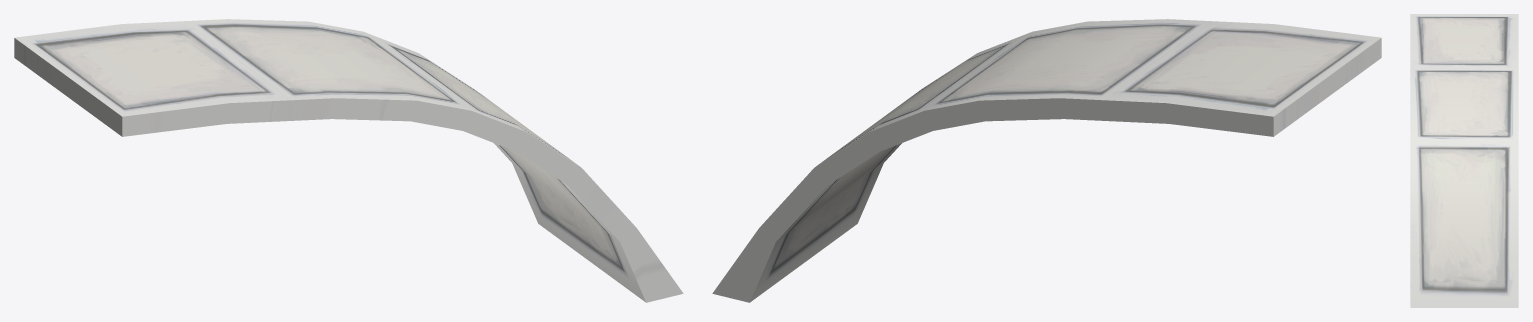
File: e_throne_ceiling.fbx
The picture shows the model from 3 angles, left to right: view 1: azimuth 30°, elevation 25°; view 2: azimuth 150°, elevation 25°; view 3: azimuth 270°, elevation 25°; orthographic projection. The views are drawn at different scales.
Parts seen in each view (by area): view 1: polySurface1492; view 2: polySurface1492; view 3: polySurface1492.
Part boxes in pixels (x1,y1,x2,y2): polySurface1492: [14, 19, 683, 302]; polySurface1492: [712, 19, 1381, 302]; polySurface1492: [1410, 14, 1518, 307].
Bounding box in the file's own units: 7.5 × 4.01 × 2.5.
